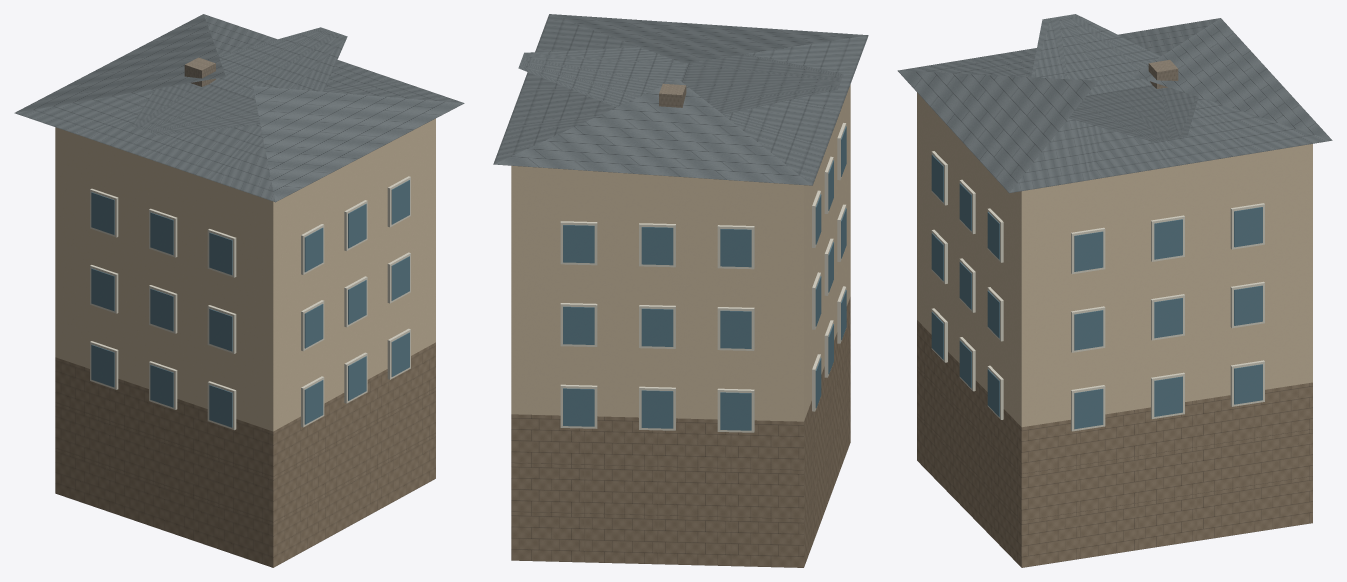
The model's file is core_0070.gltf.
The picture shows the model from 3 angles, left to right: view 1: azimuth 30°, elevation 25°; view 2: azimuth 150°, elevation 25°; view 3: azimuth 270°, elevation 25°; orthographic projection. The views are drawn at different scales.
Parts seen in each view (by area): view 1: core_0070; view 2: core_0070; view 3: core_0070.
Boxes of the visible parts, left/top/right/bottom form: core_0070: left=14, top=14, right=464, bottom=567; core_0070: left=493, top=14, right=868, bottom=567; core_0070: left=897, top=14, right=1332, bottom=567.
Size of the model in its own units: 13.63 by 15.15 by 14.3.
Materials: 6 (6 with a texture image).
